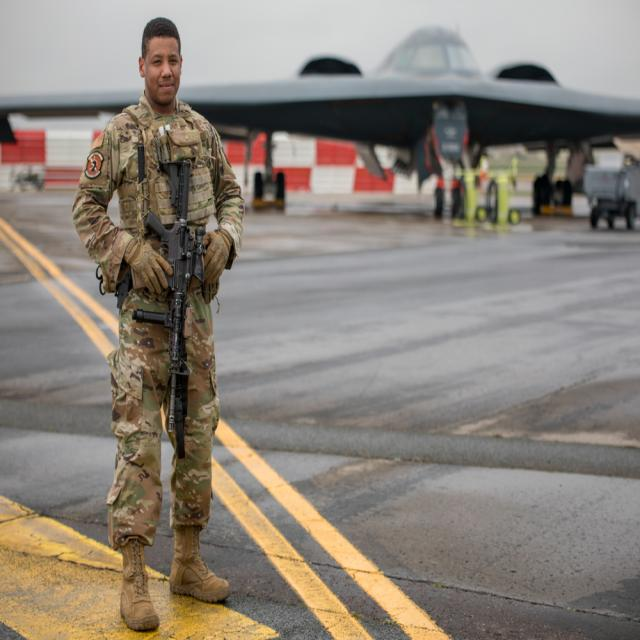MIL_Plane: (0, 84, 640, 153)
